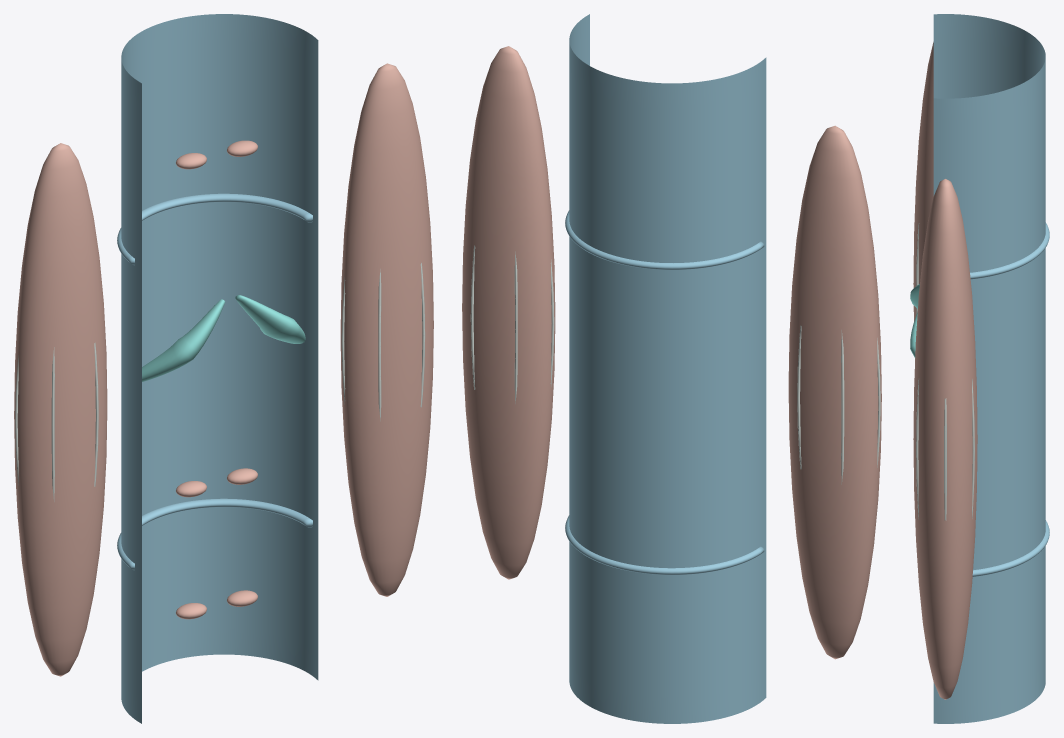
Rendered from vein-valve.glb.
3 renders of one model, left to right at view 1: azimuth 30°, elevation 25°; view 2: azimuth 150°, elevation 25°; view 3: azimuth 270°, elevation 25°, orthographic. The views are drawn at different scales.
Parts seen in each view (by area): view 1: static #5596b7, static #bb7564, static #49bdb4, static #c7ddd2; view 2: static #5596b7, static #bb7564, static #c7ddd2; view 3: static #5596b7, static #bb7564, static #c7ddd2, static #49bdb4.
Boxes of the visible parts, x1,y1,x2,y2 form: static #5596b7: (117, 14, 318, 723); static #bb7564: (14, 63, 433, 676); static #49bdb4: (142, 295, 305, 381); static #c7ddd2: (15, 262, 425, 501); static #5596b7: (565, 14, 766, 723); static #bb7564: (462, 46, 881, 659); static #c7ddd2: (470, 245, 880, 484); static #5596b7: (933, 14, 1049, 723); static #bb7564: (913, 42, 977, 699); static #c7ddd2: (916, 223, 974, 520); static #49bdb4: (910, 284, 919, 357).
Bounding box in the file's own units: 0.2863 × 0.42 × 0.085.
